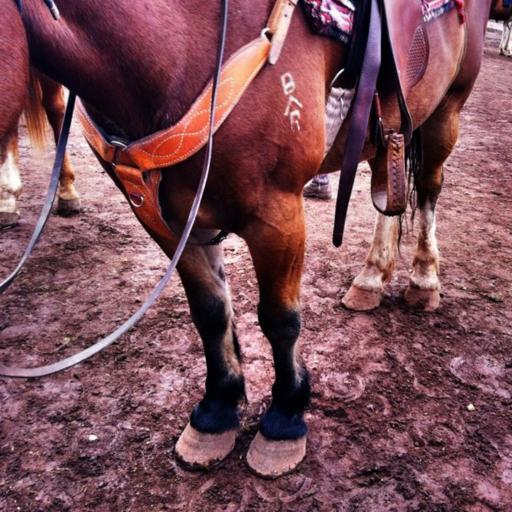horse: (0, 0, 493, 478), (0, 84, 84, 234), (488, 0, 512, 57)
